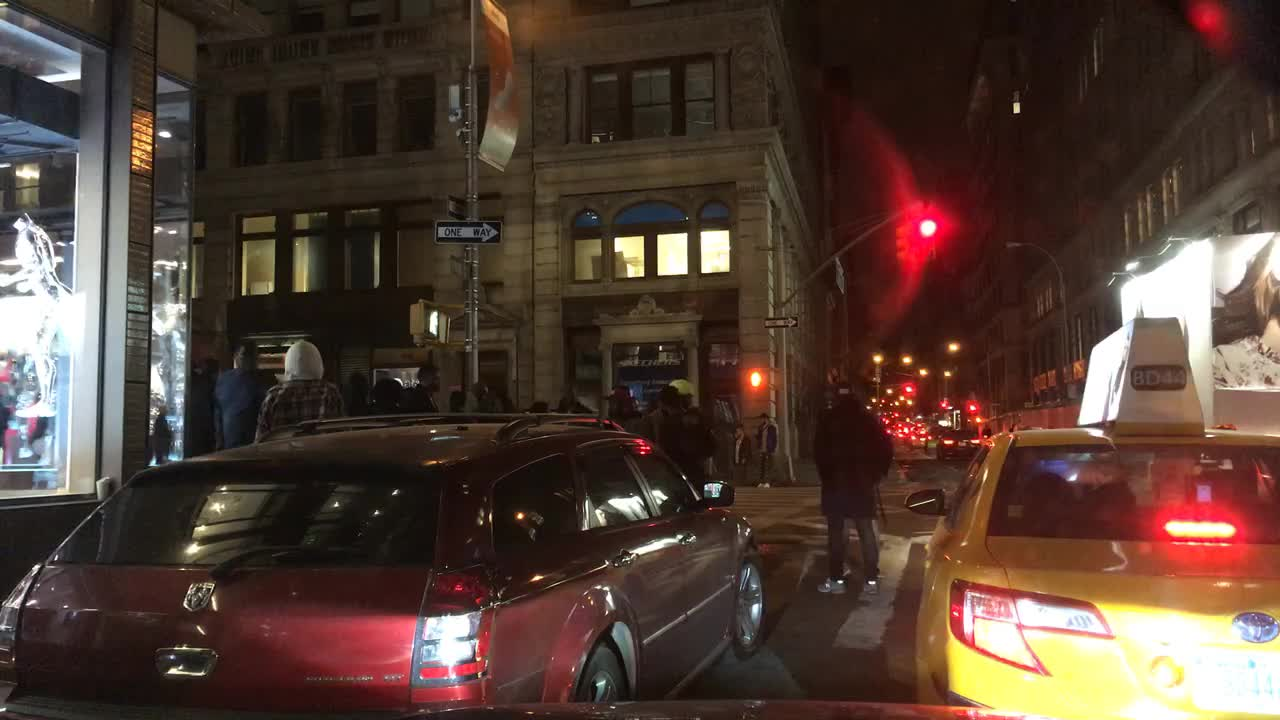car: (6, 407, 766, 711), (900, 311, 1275, 716), (939, 427, 985, 457), (907, 428, 926, 446), (896, 425, 911, 446), (925, 434, 939, 456)
person: (814, 376, 892, 600), (250, 339, 347, 446), (206, 337, 275, 446), (642, 380, 715, 479), (641, 381, 696, 479), (402, 362, 438, 418), (755, 409, 775, 489), (338, 370, 368, 415), (367, 373, 396, 415), (731, 422, 751, 481), (474, 378, 497, 411), (447, 387, 468, 411), (529, 400, 540, 411)
traffic light: (407, 298, 441, 340), (407, 301, 440, 342), (892, 215, 911, 261), (917, 200, 932, 256), (747, 366, 764, 394), (899, 379, 914, 402), (964, 400, 978, 416), (939, 398, 949, 413)
traffic sign: (434, 222, 500, 243), (763, 312, 797, 330), (835, 258, 844, 293), (447, 201, 464, 217)
